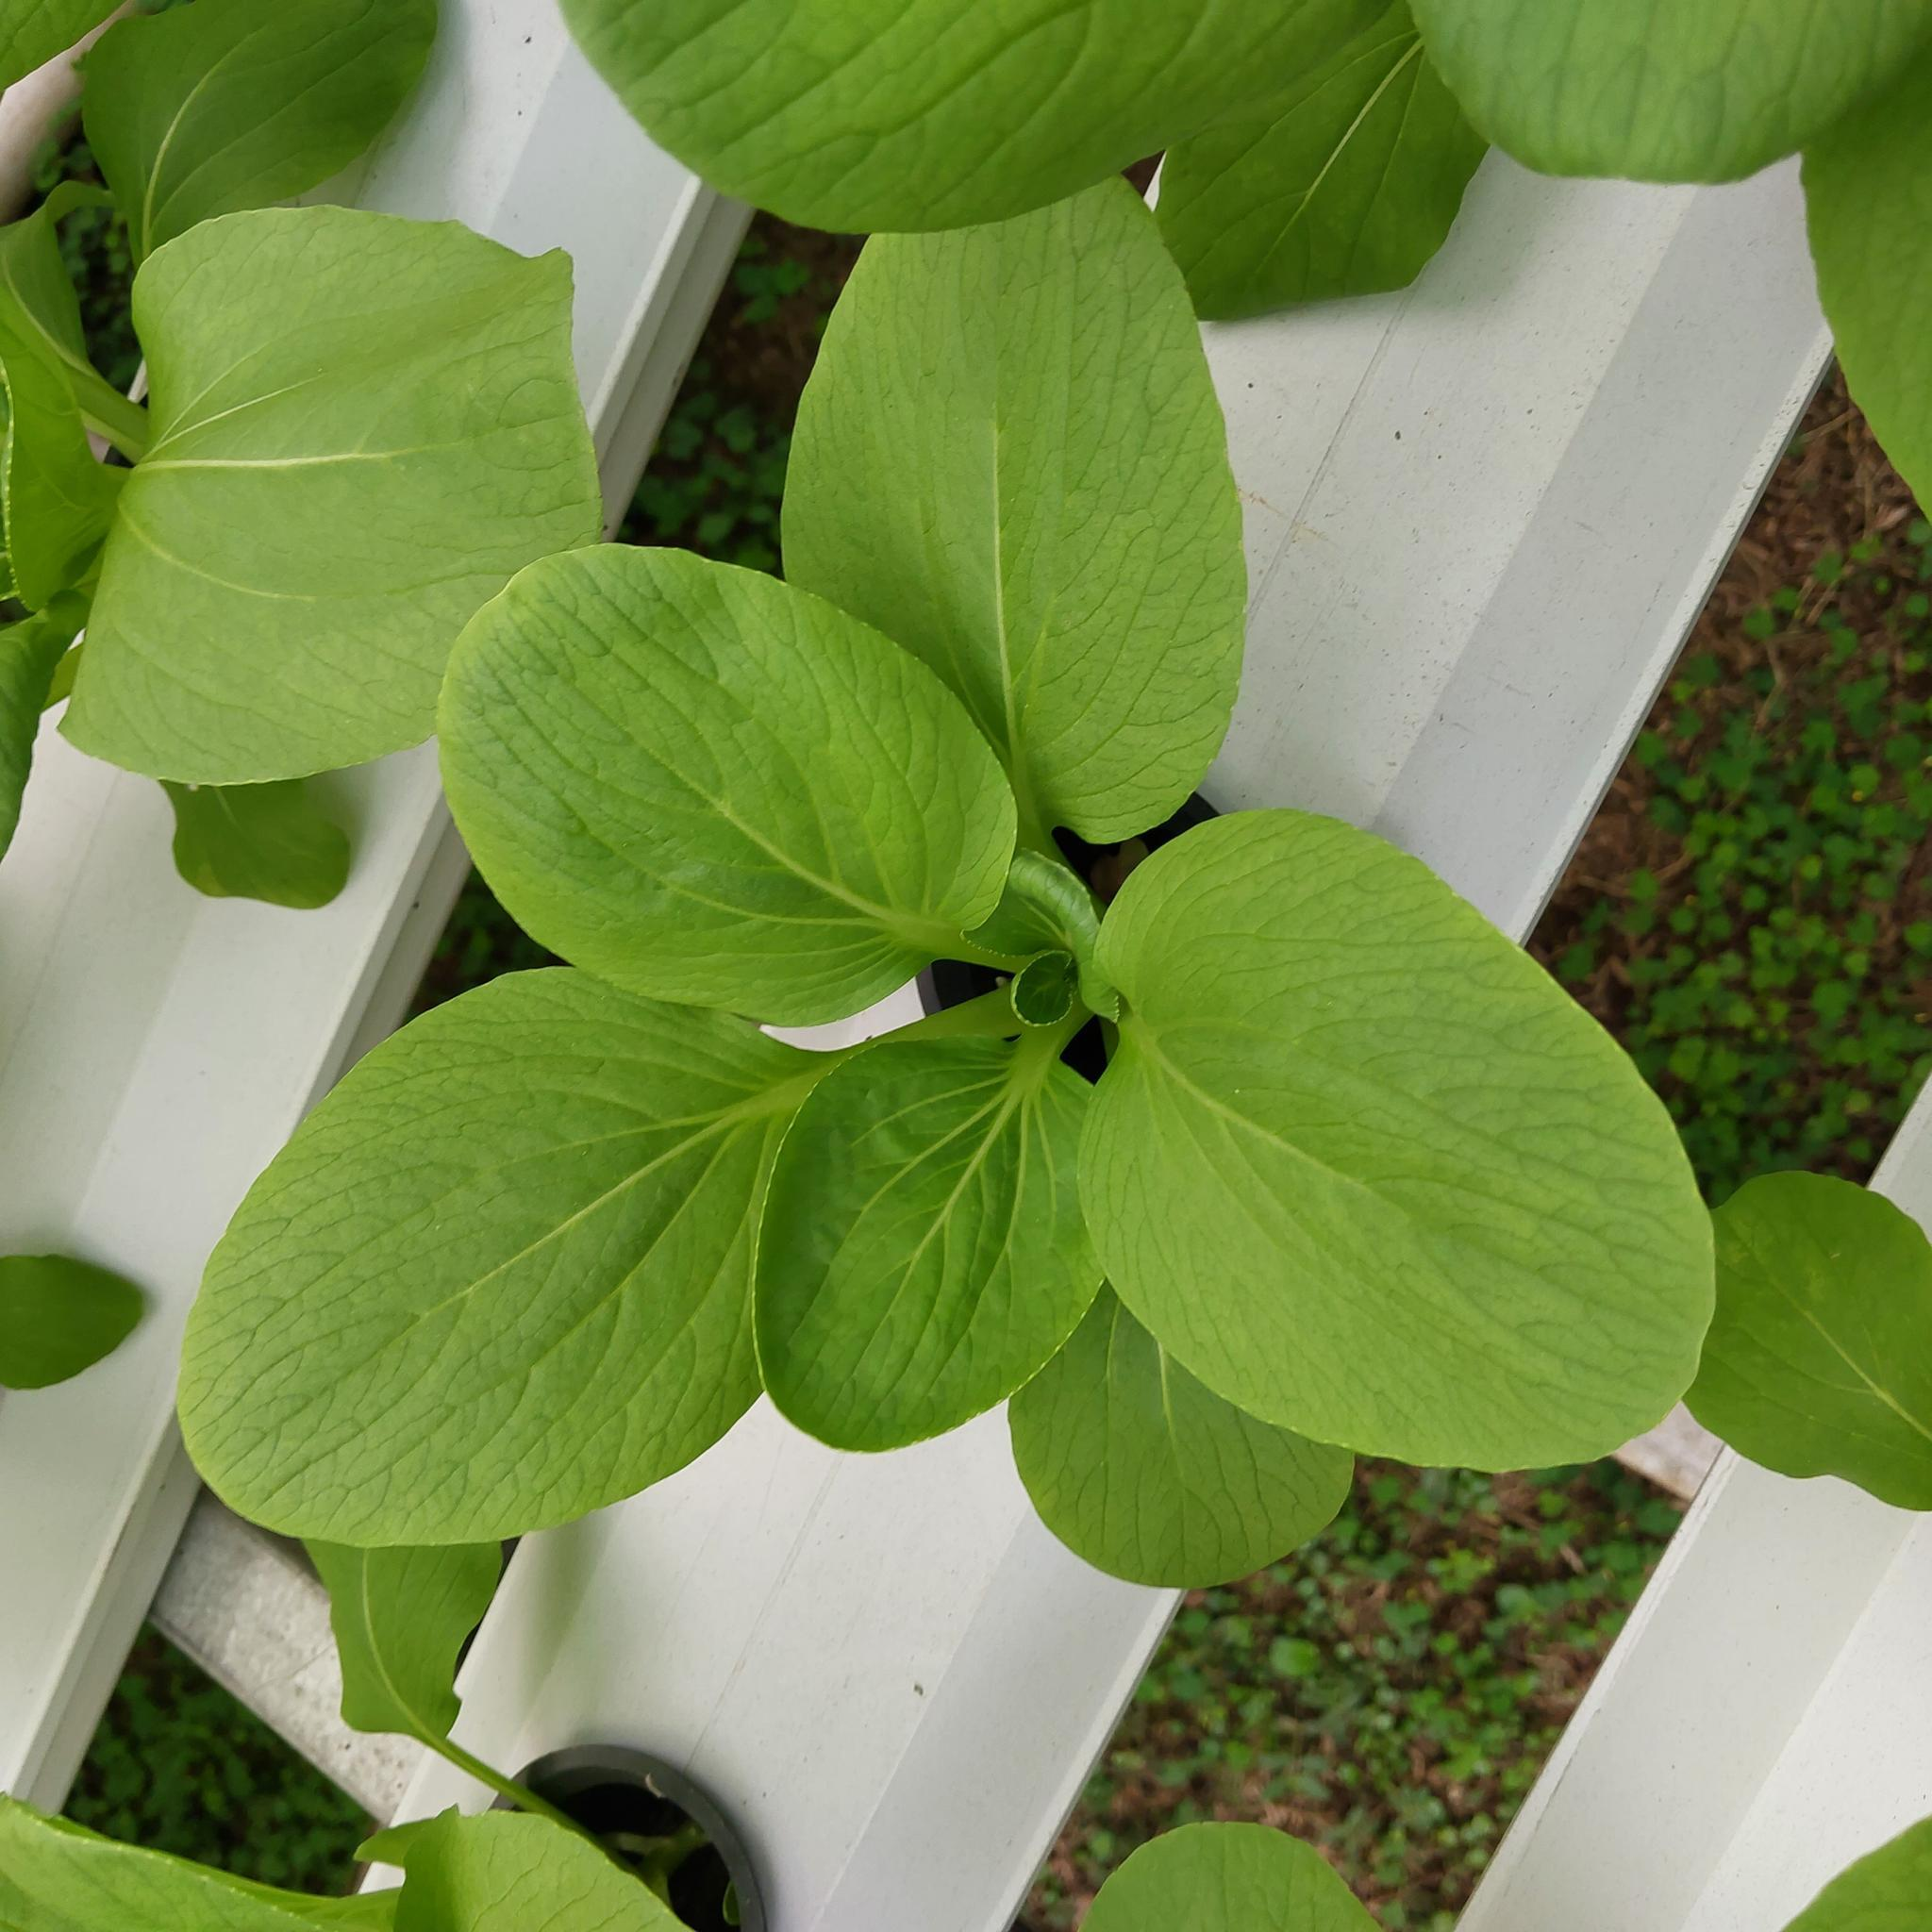Healthy-Pechay: (1120, 874, 1923, 1622), (179, 984, 846, 1557), (573, 0, 1737, 324), (51, 207, 616, 787), (522, 0, 1932, 223), (439, 552, 1021, 1019), (826, 180, 1200, 862), (1564, 504, 1921, 1109), (752, 994, 1065, 1463), (73, 2, 442, 269), (0, 196, 145, 616), (0, 1789, 398, 1925), (313, 1532, 494, 1766), (352, 1808, 702, 1927), (138, 336, 448, 467), (1072, 1819, 1407, 1928), (0, 591, 92, 893), (159, 771, 347, 911), (4, 1254, 149, 1392), (727, 255, 812, 318), (1698, 740, 1764, 809), (1836, 683, 1891, 747), (1267, 1635, 1323, 1679), (1844, 763, 1882, 805)
